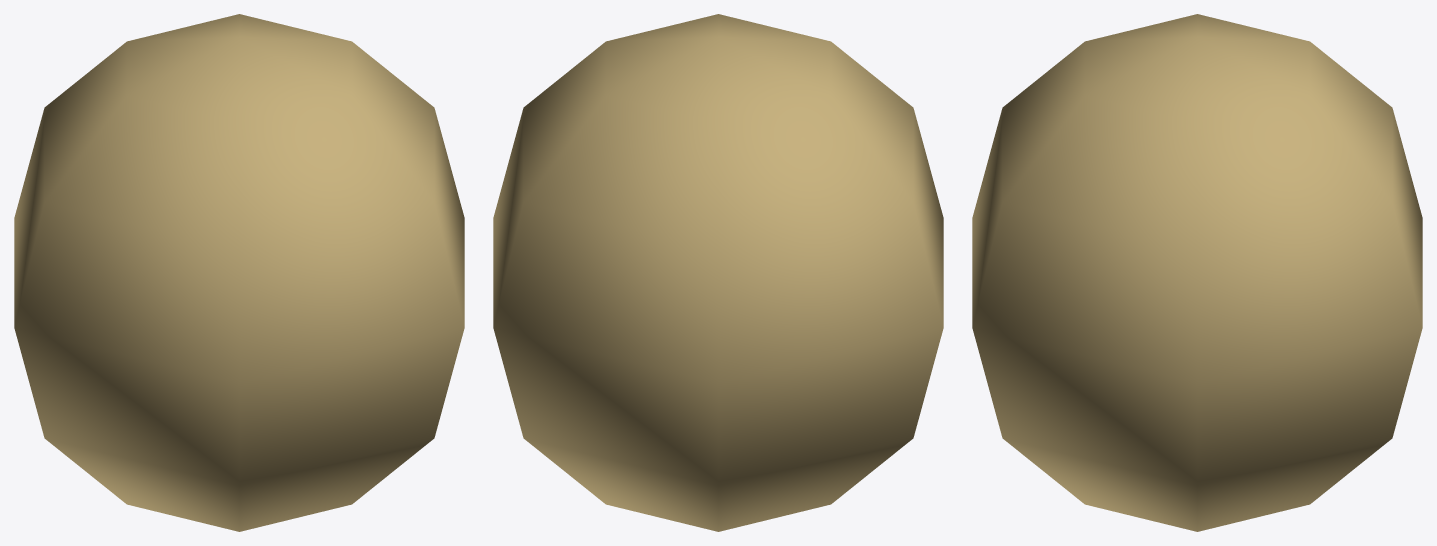
File: env-ww-tumbleweed.glb
The picture shows the model from 3 angles, left to right: view 1: azimuth 30°, elevation 25°; view 2: azimuth 150°, elevation 25°; view 3: azimuth 270°, elevation 25°; orthographic projection.
Bounding box in the file's own units: 0.5 × 0.5 × 0.433.
